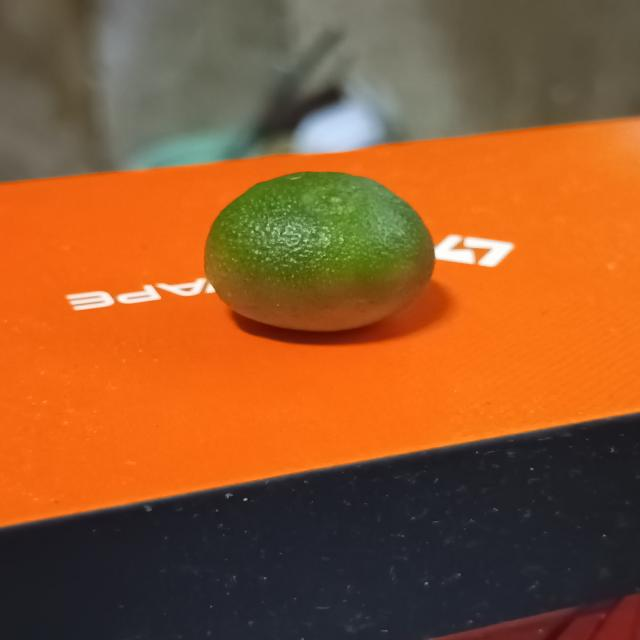heathy: (197, 167, 451, 344)
